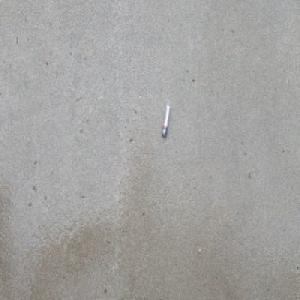Battery: (160, 104, 169, 138)
